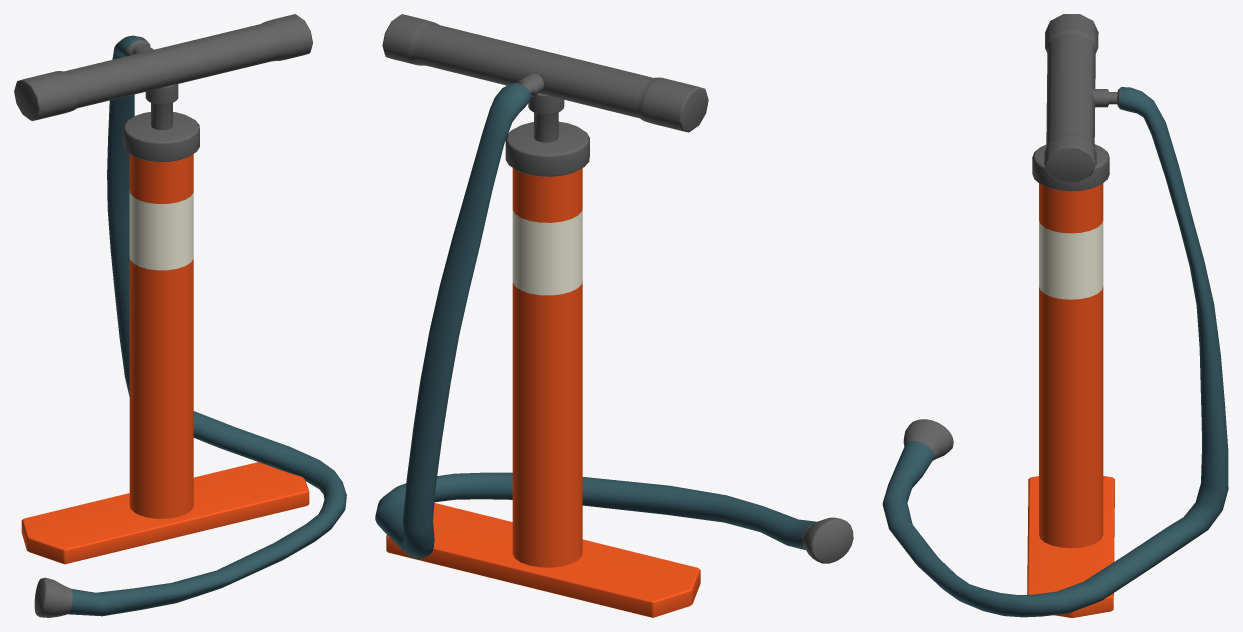
The model's file is Town_5_Pump_1.glb.
3 renders of one model, left to right at view 1: azimuth 30°, elevation 25°; view 2: azimuth 150°, elevation 25°; view 3: azimuth 270°, elevation 25°, orthographic. The views are drawn at different scales.
Visible parts, largest first — view 1: Town_5_Pump_1; view 2: Town_5_Pump_1; view 3: Town_5_Pump_1.
Boxes of the visible parts, <box> form: Town_5_Pump_1: <box>14,14,346,617</box>; Town_5_Pump_1: <box>375,14,853,617</box>; Town_5_Pump_1: <box>882,14,1228,617</box>.
Bounding box in the file's own units: 0.6659 × 0.8394 × 0.5567.
1 material, 1 textured.
